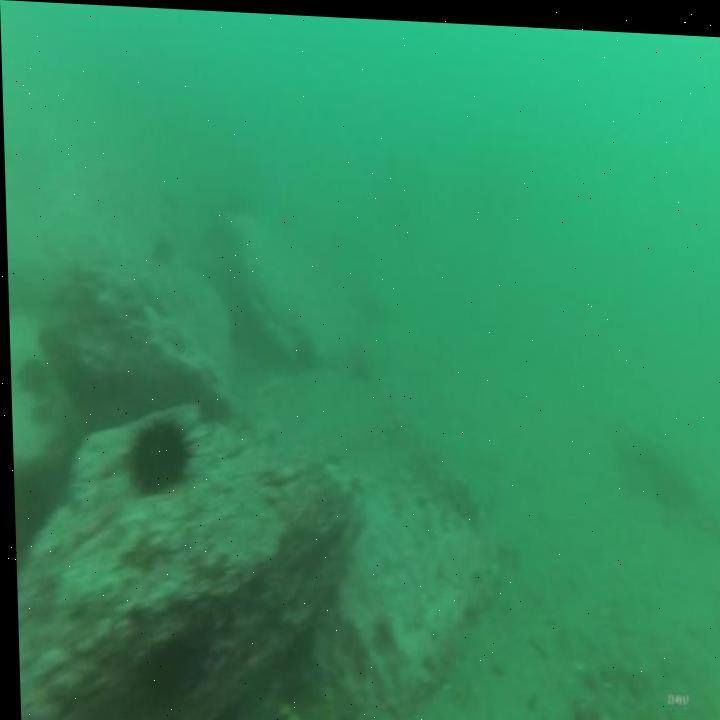echinus: (121, 406, 195, 500), (13, 354, 49, 402), (145, 230, 174, 272)
